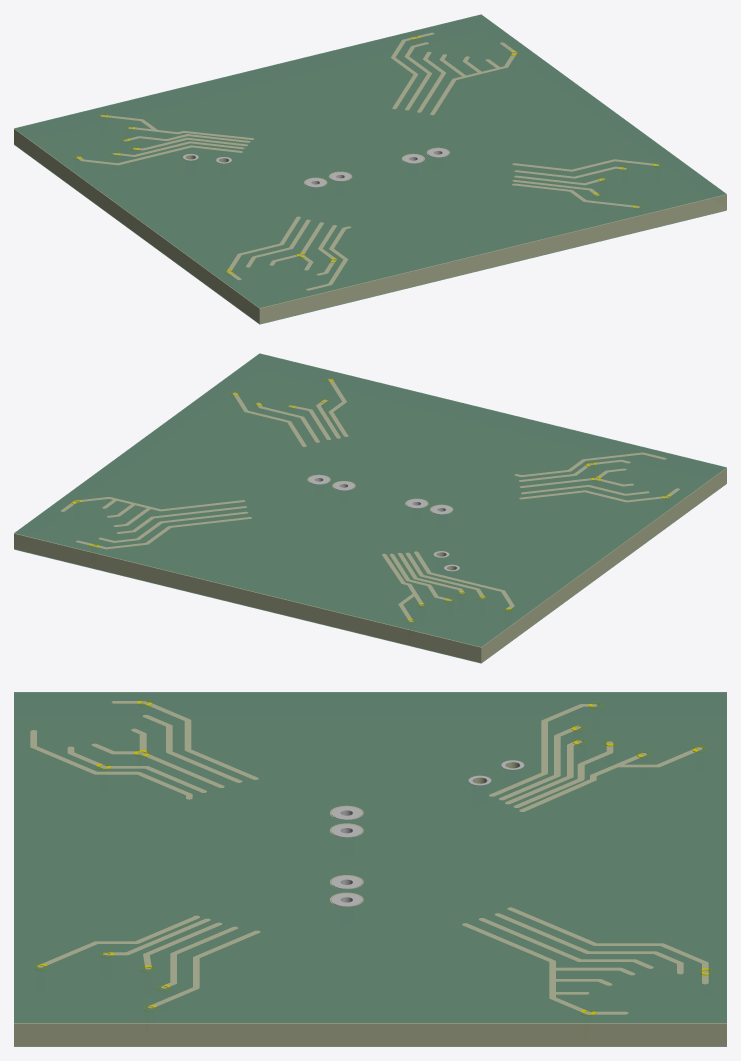
Rendered from hackaday-blinky-led-badge.glb.
The picture shows the model from 3 angles, top to bottom: view 1: azimuth 30°, elevation 25°; view 2: azimuth 150°, elevation 25°; view 3: azimuth 270°, elevation 25°; orthographic projection. The views are drawn at different scales.
Parts seen in each view (by area): view 1: =>[0:1:1:8], =>[0:1:1:6], =>[0:1:1:2]; view 2: =>[0:1:1:8], =>[0:1:1:6], =>[0:1:1:2]; view 3: =>[0:1:1:8], =>[0:1:1:6], =>[0:1:1:2].
Part boxes in pixels (x1,y1,x2,y2): =>[0:1:1:8]: [14, 15, 726, 323]; =>[0:1:1:6]: [14, 14, 726, 324]; =>[0:1:1:2]: [72, 36, 663, 274]; =>[0:1:1:8]: [14, 354, 726, 662]; =>[0:1:1:6]: [14, 353, 726, 663]; =>[0:1:1:2]: [72, 378, 671, 622]; =>[0:1:1:8]: [14, 693, 726, 1046]; =>[0:1:1:6]: [14, 692, 726, 1046]; =>[0:1:1:2]: [34, 700, 713, 1015].
Size of the model in its own units: 0.0478 by 0.00163 by 0.0435.
4 materials, 4 textured.
